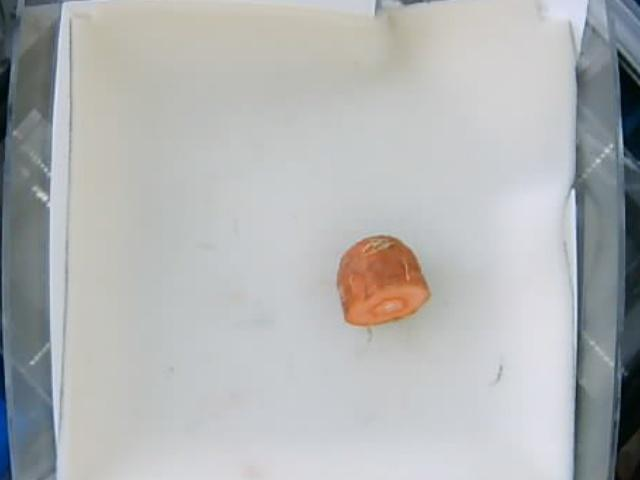Carrot: (338, 233, 427, 328)
